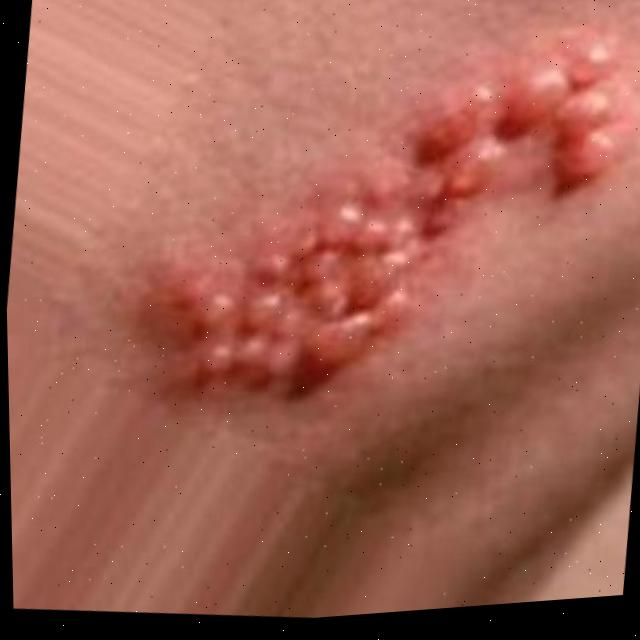Shingles: (160, 0, 635, 442)
